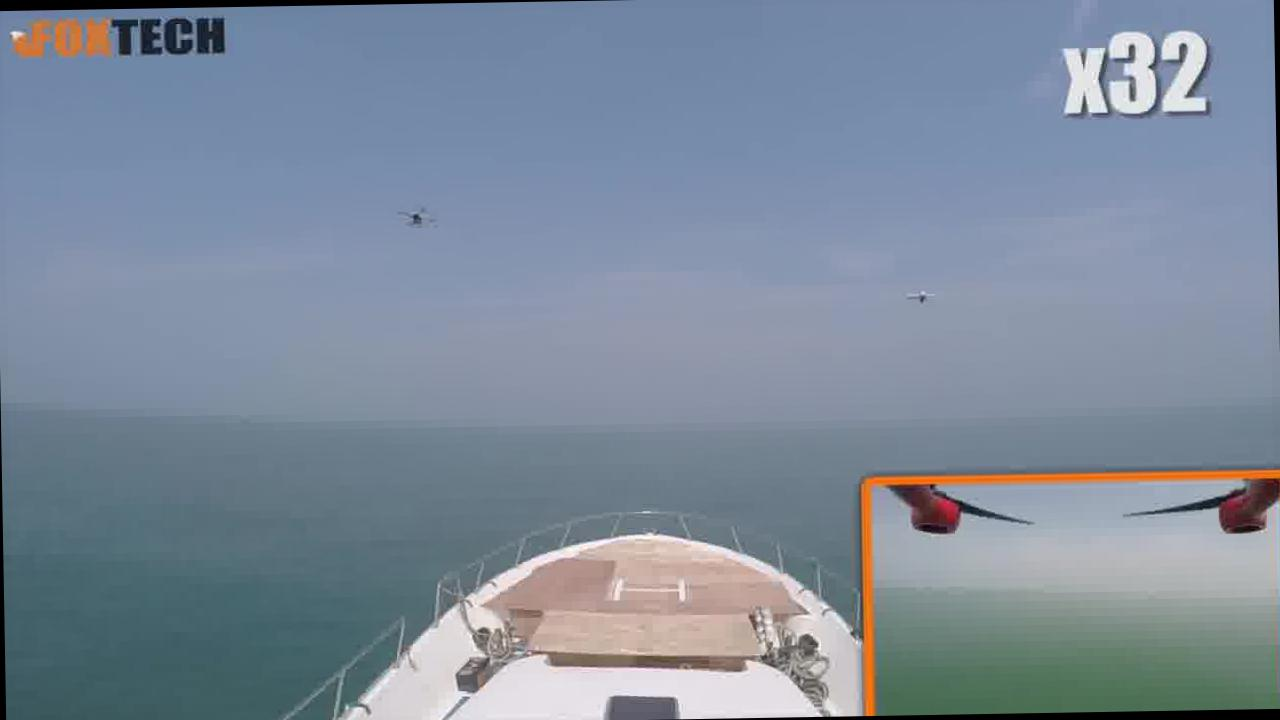drone: (387, 192, 444, 236), (892, 274, 948, 310)
